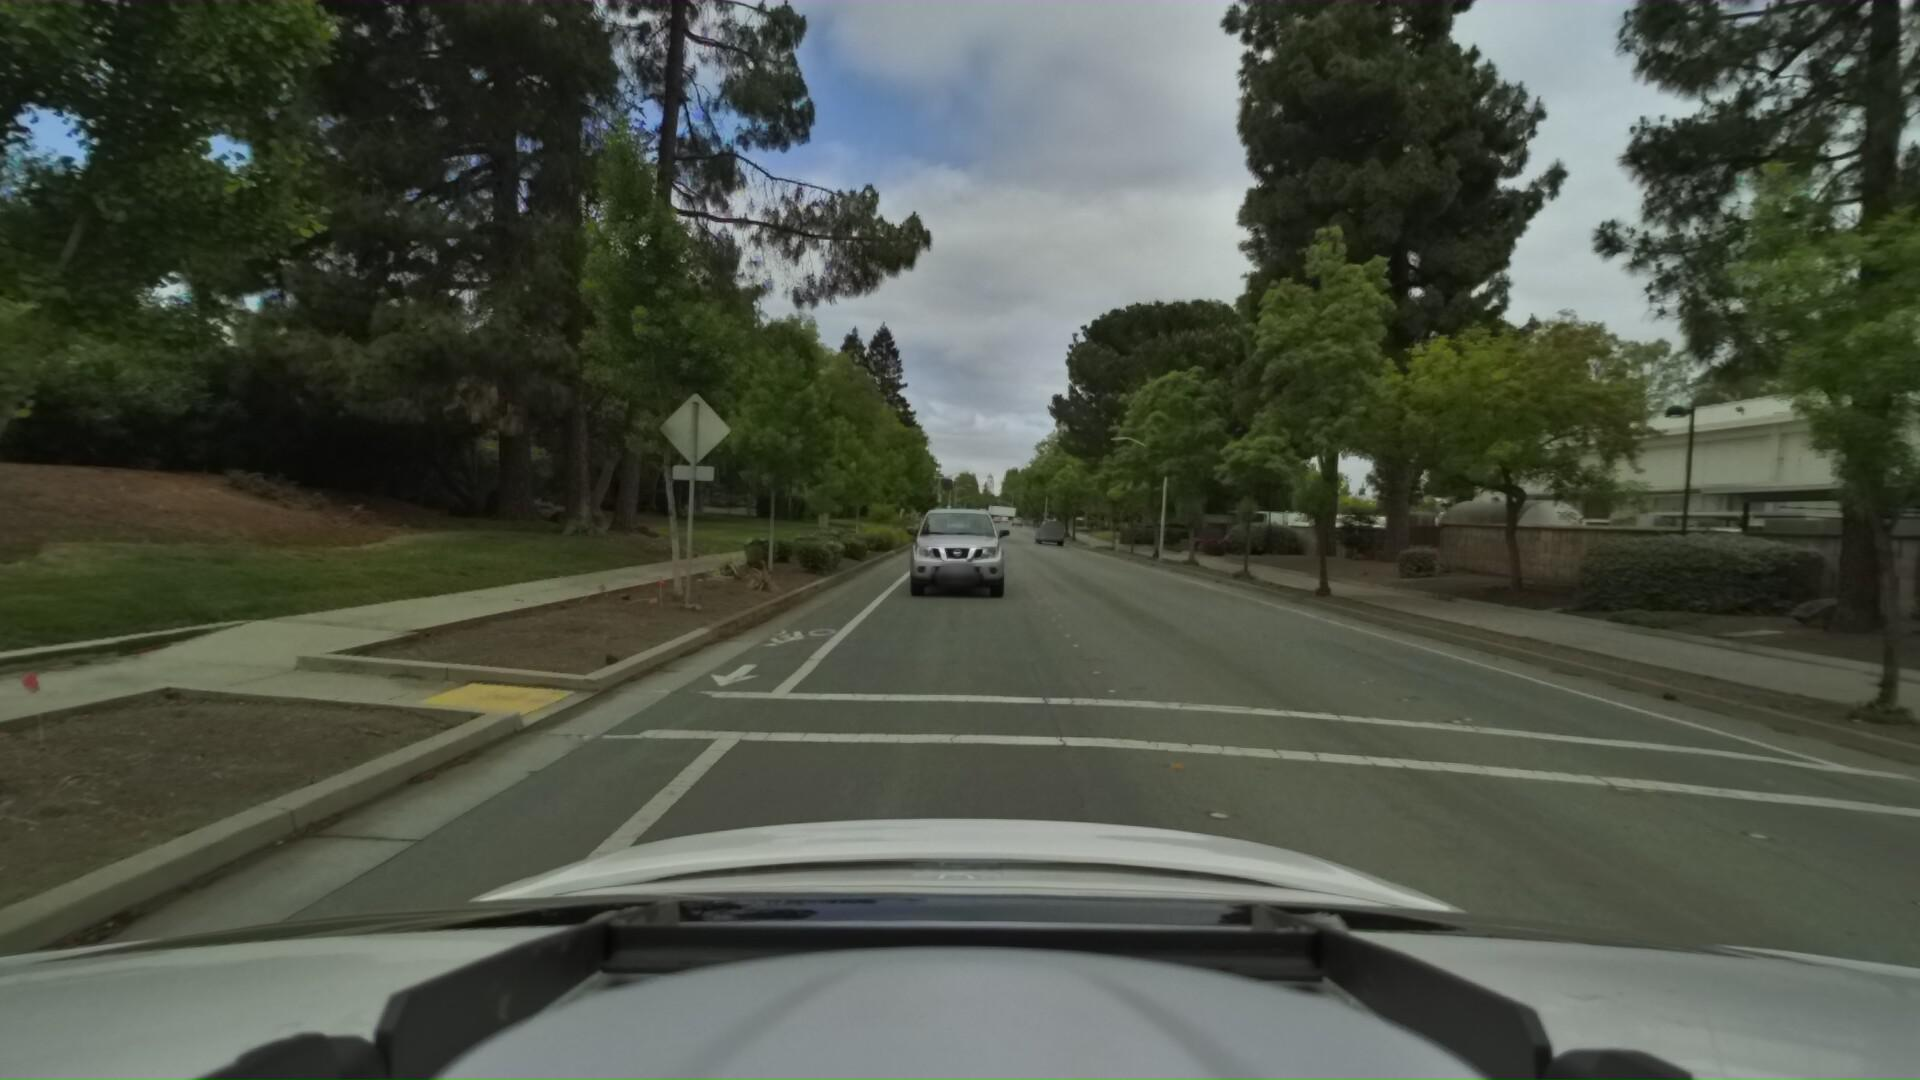car: (891, 491, 1015, 611), (927, 500, 993, 560), (1031, 516, 1065, 545)
